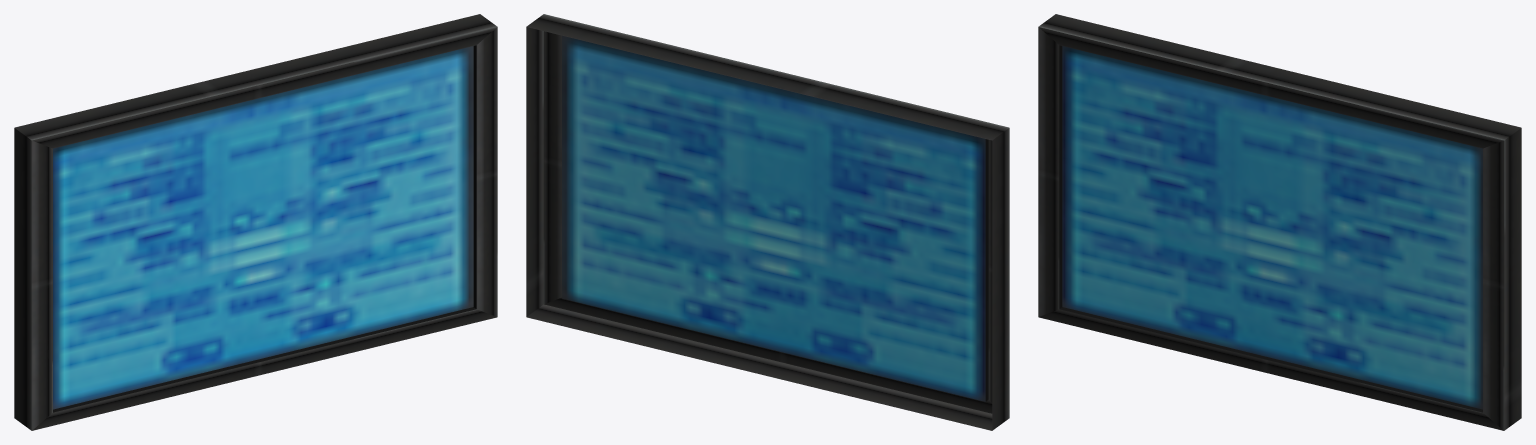
Rendered from telacomputadorG.fbx.
3 renders of one model, left to right at view 1: azimuth 30°, elevation 25°; view 2: azimuth 150°, elevation 25°; view 3: azimuth 330°, elevation 25°, orthographic.
Visible parts, largest first — view 1: Cylinder.001; view 2: Cylinder.001; view 3: Cylinder.001.
Part boxes in pixels (<box>): Cylinder.001: <box>14,14,497,430</box>; Cylinder.001: <box>526,14,1009,430</box>; Cylinder.001: <box>1038,14,1521,430</box>.
Bounding box in the file's own units: 2.69 × 1.6 × 0.1759.
